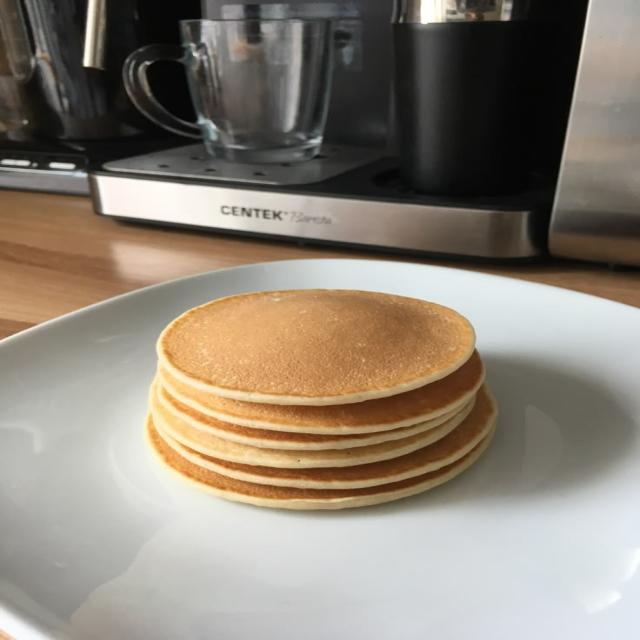pancake: (158, 290, 474, 405), (153, 385, 497, 488), (147, 415, 493, 509), (159, 351, 485, 434), (150, 388, 471, 468), (155, 383, 474, 450)
